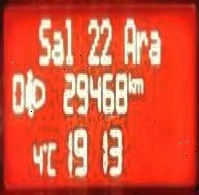0: (10, 68, 23, 114)
1: (101, 124, 107, 178), (66, 126, 71, 176)
2: (85, 14, 98, 65), (100, 14, 111, 65), (62, 71, 75, 113)
3: (108, 122, 123, 176)
4: (88, 71, 101, 113), (32, 135, 42, 176)
6: (101, 69, 114, 114)
8: (115, 68, 128, 114)
9: (72, 124, 87, 176), (75, 68, 87, 114)
X: (38, 14, 51, 65), (124, 14, 136, 64), (64, 12, 74, 62), (149, 25, 161, 64), (52, 26, 64, 64), (46, 139, 57, 178), (136, 26, 147, 64), (134, 73, 143, 94), (127, 69, 134, 94)
